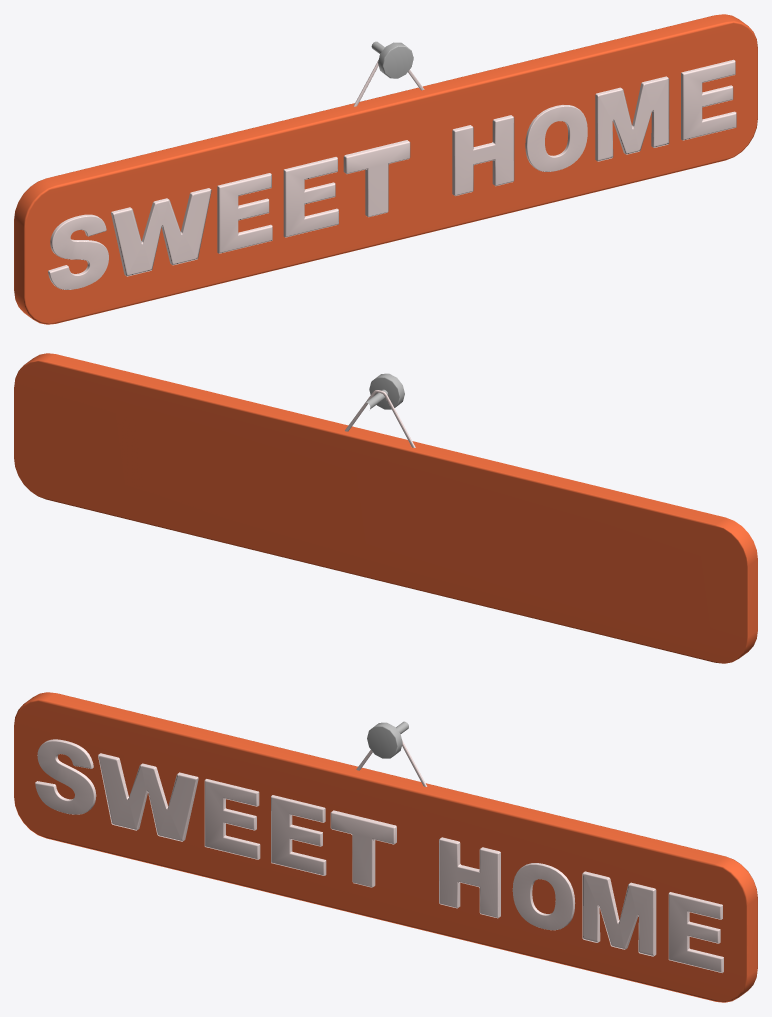
File: Town_18_Sign_Sweet_Home_1.glb
3 renders of one model, top to bottom at view 1: azimuth 30°, elevation 25°; view 2: azimuth 150°, elevation 25°; view 3: azimuth 330°, elevation 25°, orthographic.
Visible parts, largest first — view 1: Town_18_Sign_Sweet_Home_1; view 2: Town_18_Sign_Sweet_Home_1; view 3: Town_18_Sign_Sweet_Home_1.
Part boxes in pixels (bbox=[...]): Town_18_Sign_Sweet_Home_1: bbox=[14, 14, 757, 324]; Town_18_Sign_Sweet_Home_1: bbox=[14, 353, 757, 663]; Town_18_Sign_Sweet_Home_1: bbox=[14, 692, 757, 1002].
Size of the model in its own units: 2.23 by 0.5741 by 0.1217.
1 material, 1 textured.
